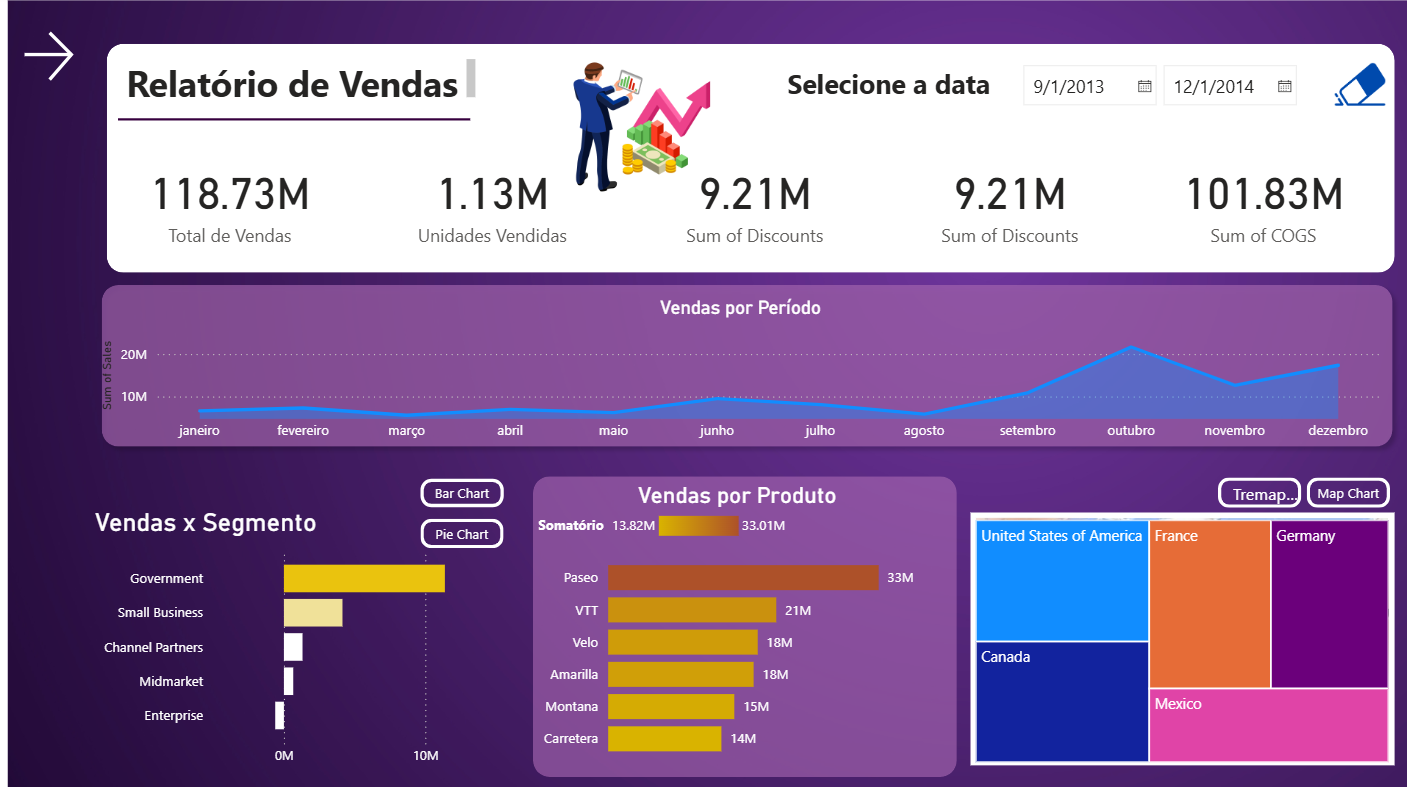

The page's visual inventory and layout, read from the dashboard file:
{"tool":"powerbi","page":{"name":"Dashboard de Vendas","canvas":[1280,720],"ordinal":1},"visuals":[{"type":"image","title":"fundo_purple","box":[0,0,1280.3,720],"z":0},{"type":"shape","box":[98.1,44.2,1161.3,206.6],"z":0,"group":"g4"},{"type":"shape","box":[84.9,252.3,1181.8,163.7],"z":0,"group":"g3"},{"type":"map","title":"Sales x Country","fields":{"Category":["financials.Country"],"Size":["Sum(financials. Sales)"]},"box":[876.7,466.8,382,228.1],"z":0,"group":"g1"},{"type":"actionButton","title":"Botão - Next","box":[17.4,26.7,58,56.3],"z":1000},{"type":"shape","box":[108.2,95.9,317.8,32.7],"z":1000,"group":"g4"},{"type":"areaChart","title":"Vendas por Período","fields":{"Category":["financials.Date.Variation.Hierarquia de datas.Trimestre","financials.Date.Variation.Hierarquia de datas.Mês"],"Y":["Sum(financials. Sales)"]},"box":[88.7,271.5,1163.2,139.7],"z":1000,"group":"g3"},{"type":"clusteredBarChart","title":"Vendas x Segmento","fields":{"Category":["financials.Segment"],"Y":["Sum(financials.Profit)"]},"box":[82.6,462.2,383.9,242.3],"z":1000,"group":"g2"},{"type":"treemap","title":"Sales x Country","fields":{"Group":["financials.Country"],"Values":["Sum(financials. Sales)"]},"box":[876.7,468.2,382,228.1],"z":1000,"group":"g1"},{"type":"slicer","fields":{"Values":["financials.Date"]},"box":[912.2,53.5,272.2,55.6],"z":2000,"group":"g4"},{"type":"shape","box":[482.9,433.4,382.2,271.3],"z":2000},{"type":"actionButton","title":"Botão - map","box":[1180.4,434.9,75.1,27.3],"z":2000,"group":"g1"},{"type":"actionButton","title":"Botão - bar","box":[381.1,435.8,75.1,25.6],"z":2000,"group":"g2"},{"type":"textbox","box":[706.9,59.2,199.6,45.6],"z":3000,"group":"g4"},{"type":"group","id":"g1","title":"Sales x país","box":[876.7,434.9,382.6,261.6],"z":3000},{"type":"actionButton","title":"Botão - tremap","box":[1100.2,434.9,75.1,27.3],"z":3000,"group":"g1"},{"type":"actionButton","title":"Botão -pie","box":[380.9,472,74.8,26.6],"z":3000,"group":"g2"},{"type":"card","fields":{"Values":["Sum(financials.Units Sold)"]},"box":[340.6,133.3,211,105.5],"z":4000,"group":"g4"},{"type":"clusteredBarChart","title":"Vendas por Produto","fields":{"Category":["financials.Product"],"Y":["Sum(financials. Sales)"]},"box":[482.6,438.4,368.5,261.1],"z":4000},{"type":"textbox","box":[110.4,53,324.6,48.5],"z":5000,"group":"g4"},{"type":"group","id":"g2","title":"Sales x Segmento","box":[82.6,432.6,387.2,270.9],"z":5000},{"type":"actionButton","box":[1198.7,57.8,59.9,51.3],"z":6000,"group":"g4"},{"type":"group","id":"g3","title":"Perspectiva temporal das vendas","box":[84.9,252.3,1181.4,164],"z":6000},{"type":"group","id":"g4","title":"Filtro por data","box":[98.1,44.2,1161.3,206.6],"z":7000},{"type":"card","fields":{"Values":["Sum(financials.Discounts)"]},"box":[806.7,133.3,211,105.5],"z":7000,"group":"g4"},{"type":"image","title":"clean","box":[1198.7,53.5,59.9,55.6],"z":8000,"group":"g4"},{"type":"card","fields":{"Values":["Sum(financials.Discounts)"]},"box":[577.2,133.3,211,105.5],"z":9000,"group":"g4"},{"type":"actionButton","box":[1179.8,62.6,72.3,50.1],"z":9001},{"type":"card","fields":{"Values":["Sum(financials.COGS)"]},"box":[1036.2,133.3,211,105.5],"z":10000,"group":"g4"},{"type":"card","fields":{"Values":["Sum(financials. Sales)"]},"box":[104,133.3,211,105.5],"z":11000,"group":"g4"},{"type":"image","box":[486.9,47.4,222.1,143],"z":12000,"group":"g4"}]}

Visuals, with their boxes in screenshot pixels (x1, y1, x2, y2), scaled from the page's 1280x720 canvas onto the 1407x787 screenshot:
"fundo_purple" image: crop(0, 0, 1406, 786)
shape: crop(108, 48, 1384, 274)
shape: crop(93, 276, 1392, 455)
"Sales x Country" map: crop(964, 510, 1384, 760)
"Botão - Next" actionButton: crop(19, 29, 83, 91)
shape: crop(119, 105, 468, 141)
"Vendas por Período" areaChart: crop(98, 297, 1376, 449)
"Vendas x Segmento" clusteredBarChart: crop(91, 505, 513, 770)
"Sales x Country" treemap: crop(964, 512, 1384, 761)
slicer - financials.Date: crop(1003, 58, 1302, 119)
shape: crop(531, 474, 951, 770)
"Botão - map" actionButton: crop(1298, 475, 1380, 505)
"Botão - bar" actionButton: crop(419, 476, 501, 504)
textbox: crop(777, 65, 996, 115)
"Sales x país" group: crop(964, 475, 1384, 761)
"Botão - tremap" actionButton: crop(1209, 475, 1292, 505)
"Botão -pie" actionButton: crop(419, 516, 501, 545)
card - Sum(financials.Units Sold): crop(374, 146, 606, 261)
"Vendas por Produto" clusteredBarChart: crop(530, 479, 936, 765)
textbox: crop(121, 58, 478, 111)
"Sales x Segmento" group: crop(91, 473, 516, 769)
actionButton: crop(1318, 63, 1383, 119)
"Perspectiva temporal das vendas" group: crop(93, 276, 1392, 455)
"Filtro por data" group: crop(108, 48, 1384, 274)
card - Sum(financials.Discounts): crop(887, 146, 1119, 261)
"clean" image: crop(1318, 58, 1383, 119)
card - Sum(financials.Discounts): crop(634, 146, 866, 261)
actionButton: crop(1297, 68, 1376, 123)
card - Sum(financials.COGS): crop(1139, 146, 1371, 261)
card - Sum(financials. Sales): crop(114, 146, 346, 261)
image: crop(535, 52, 779, 208)
